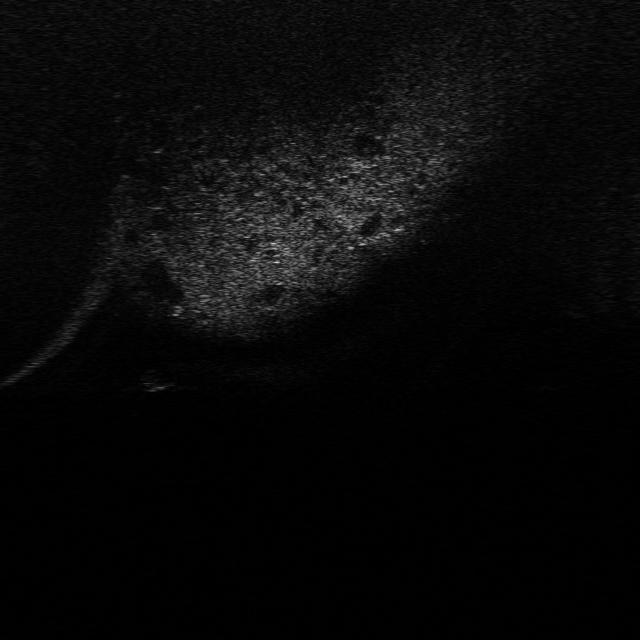cube: (128, 368, 177, 396)
